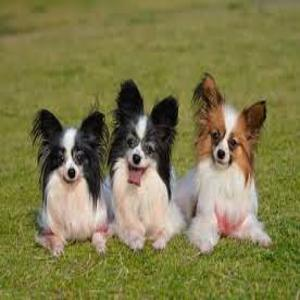yell: (30, 108, 116, 253)
